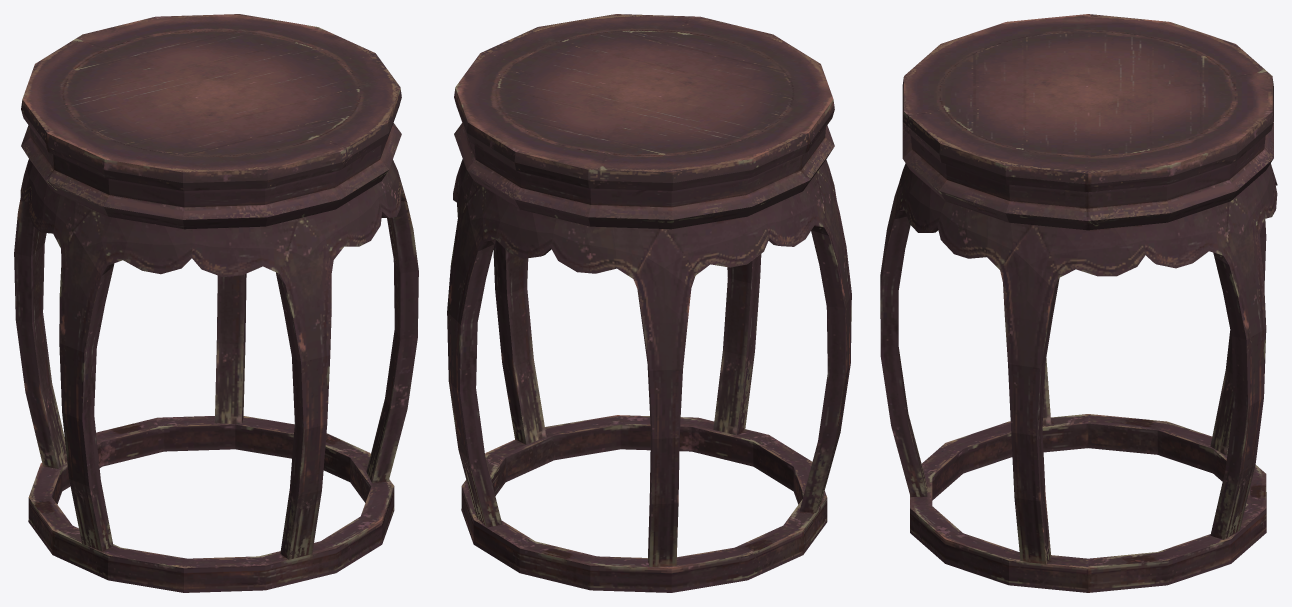
File: RedYuanDeng.fbx
3 views of the same model, side by side, from view 1: azimuth 30°, elevation 25°; view 2: azimuth 150°, elevation 25°; view 3: azimuth 270°, elevation 25° (orthographic).
Parts seen in each view (by area): view 1: 3D_RedYuanDeng.mo; view 2: 3D_RedYuanDeng.mo; view 3: 3D_RedYuanDeng.mo.
Boxes of the visible parts, left/top/right/bottom form: 3D_RedYuanDeng.mo: left=14, top=14, right=418, bottom=592; 3D_RedYuanDeng.mo: left=447, top=14, right=851, bottom=592; 3D_RedYuanDeng.mo: left=880, top=14, right=1277, bottom=592.
Size of the model in its own units: 45.13 by 51.75 by 44.18.
1 material, 1 textured.
